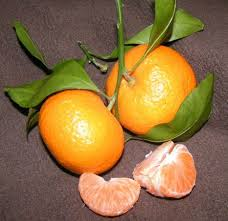orange: (33, 87, 127, 180)
